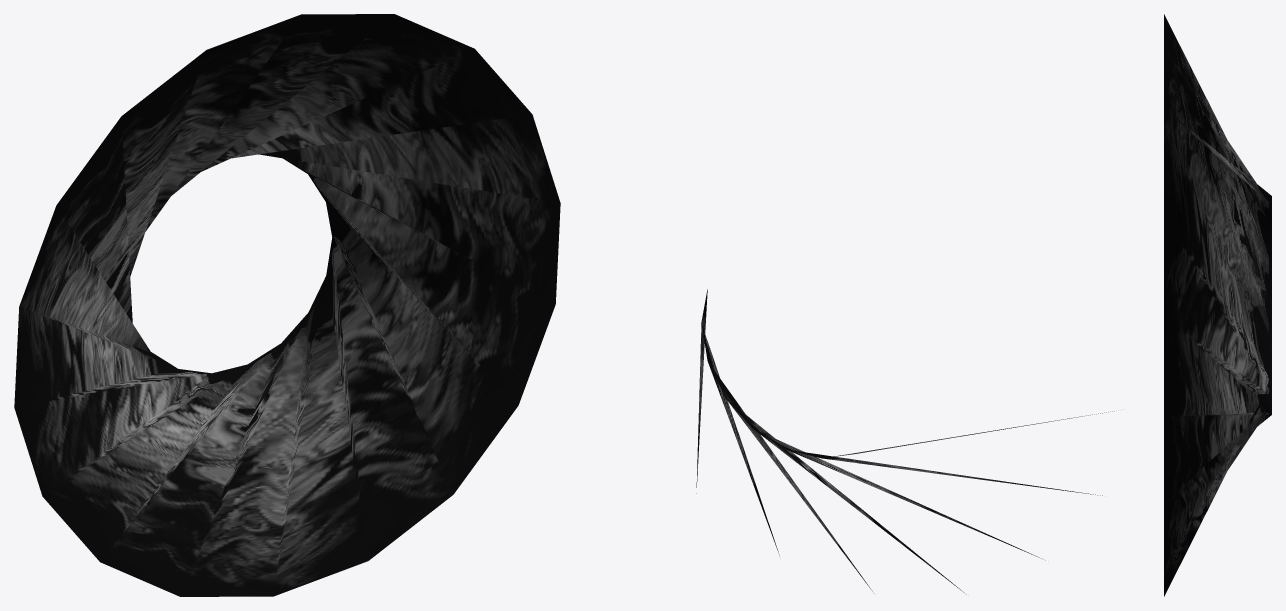
Rendered from Suhwanzin11.glb.
3 views of the same model, side by side, from view 1: azimuth 30°, elevation 25°; view 2: azimuth 150°, elevation 25°; view 3: azimuth 270°, elevation 25° (orthographic). The views are drawn at different scales.
Parts seen in each view (by area): view 1: model_Suhwanzin11; view 2: model_Suhwanzin11; view 3: model_Suhwanzin11.
Part boxes in pixels (left/top/right/bottom): model_Suhwanzin11: left=14, top=14, right=560, bottom=596; model_Suhwanzin11: left=696, top=289, right=1114, bottom=594; model_Suhwanzin11: left=1164, top=14, right=1271, bottom=596.
Size of the model in its own units: 4.38 by 4.4 by 0.8069.
Materials: 1 (1 with a texture image).
